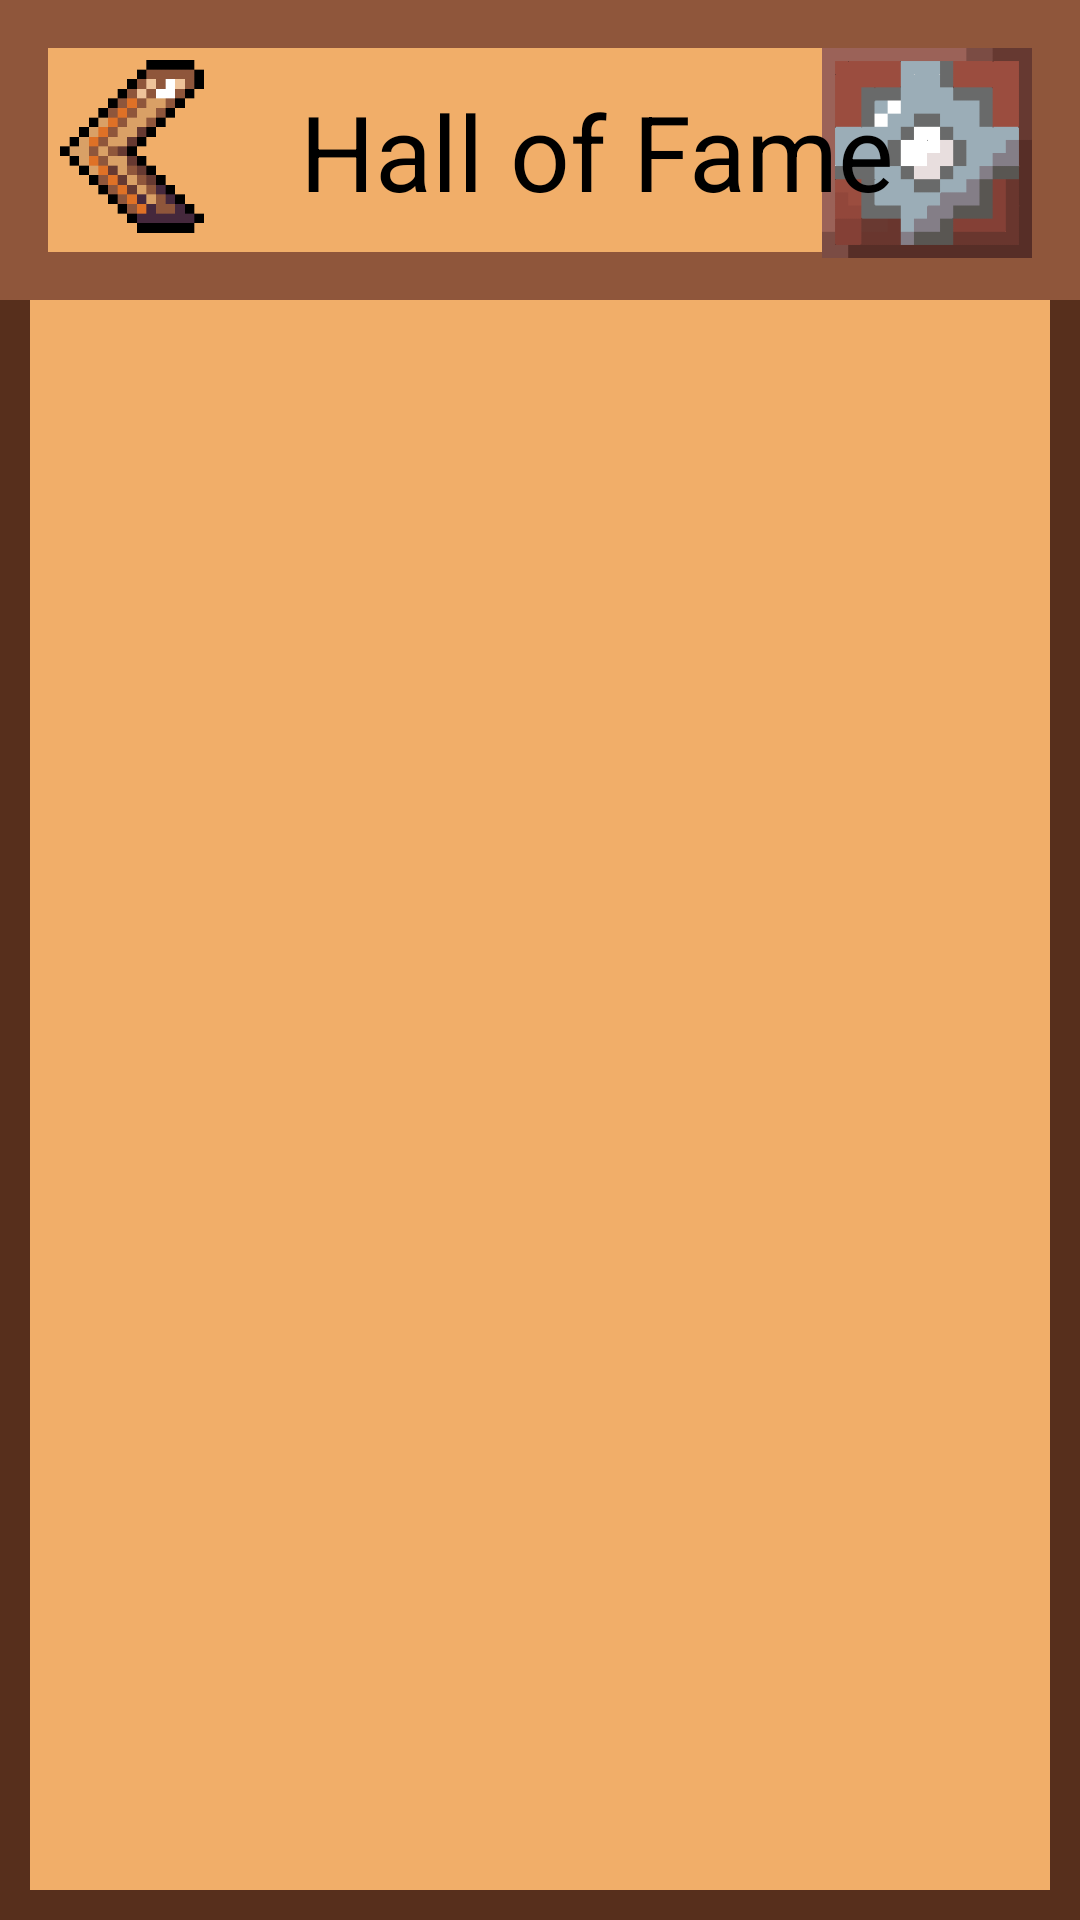

Icon click points for this 1080w x 1920h phone screenshot, format point (x, y):
back: point (132, 146)
settings: point (927, 153)
